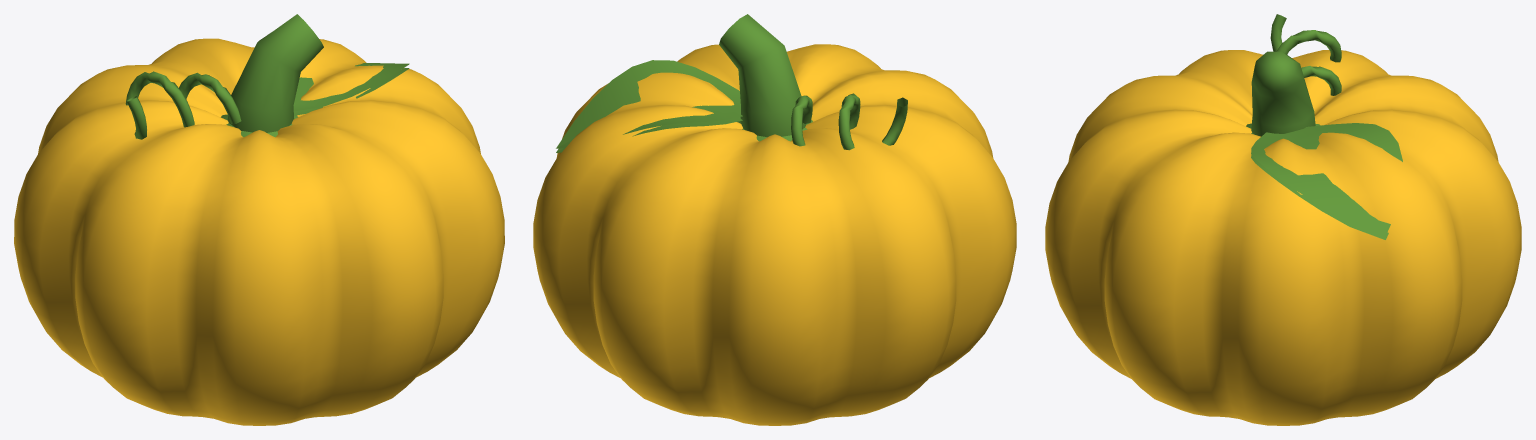
The model's file is GoldenPumpkin.obj.
3 renders of one model, left to right at view 1: azimuth 30°, elevation 25°; view 2: azimuth 150°, elevation 25°; view 3: azimuth 270°, elevation 25°, orthographic. The views are drawn at different scales.
Visible parts, largest first — view 1: PumpkinBody, PumpkinStem; view 2: PumpkinBody, PumpkinStem; view 3: PumpkinBody, PumpkinStem.
Part boxes in pixels (x1,y1,x2,y2): PumpkinBody: (14,38,504,425); PumpkinStem: (125,14,409,139); PumpkinBody: (533,44,1016,425); PumpkinStem: (556,14,907,152); PumpkinBody: (1045,50,1521,425); PumpkinStem: (1246,14,1402,239).
Size of the model in its own units: 3.11 by 2.46 by 3.14.
